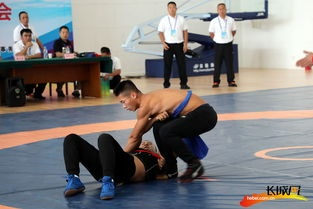falling: (50, 128, 171, 197)
